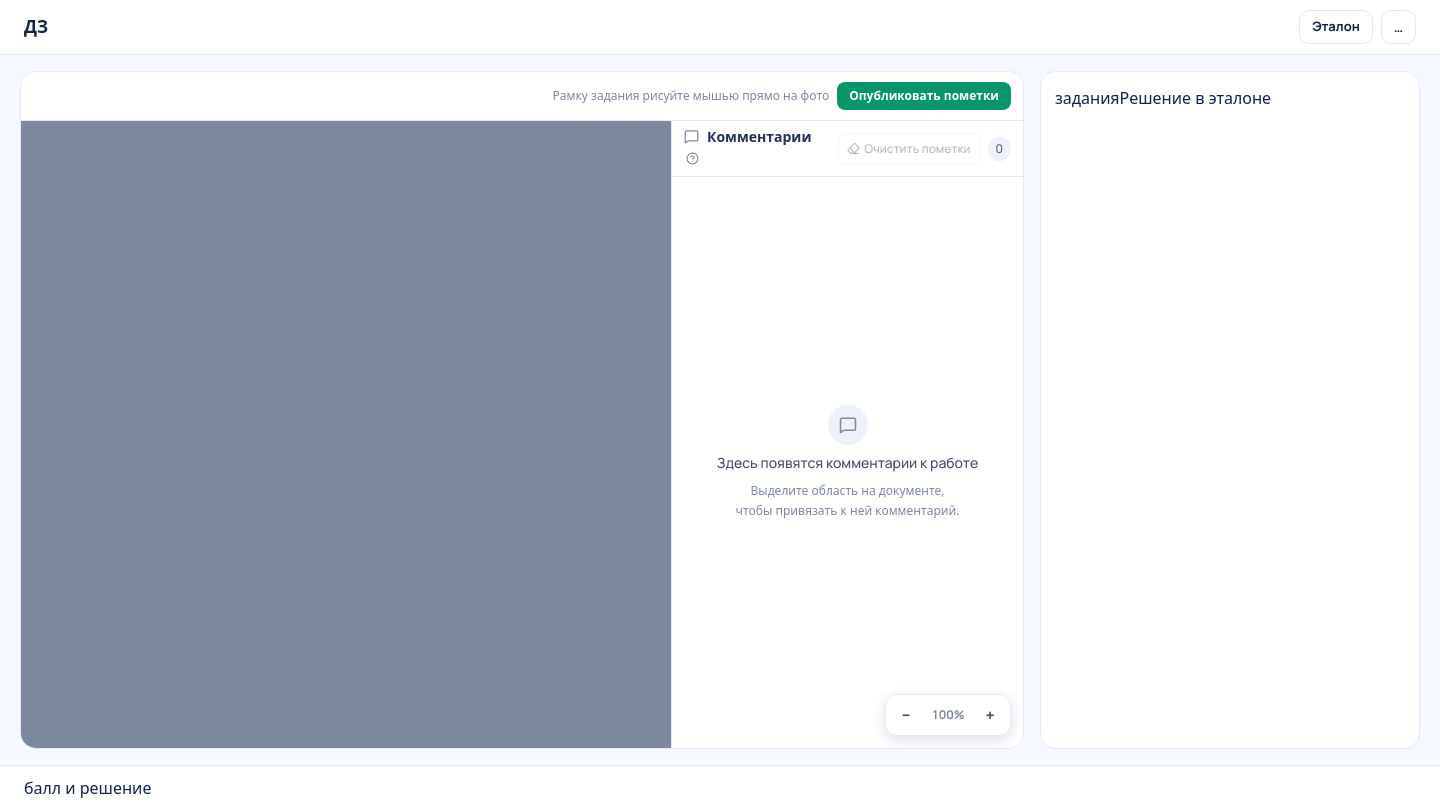
Test: §248. Эталон по запросу: панель поверх фото или блок снизу › мусор в хранилище читается как «сбоку»
Click the button with test id "attempt-reference-toggle" at coordinates (1336, 27), box [1299,10,1373,44]
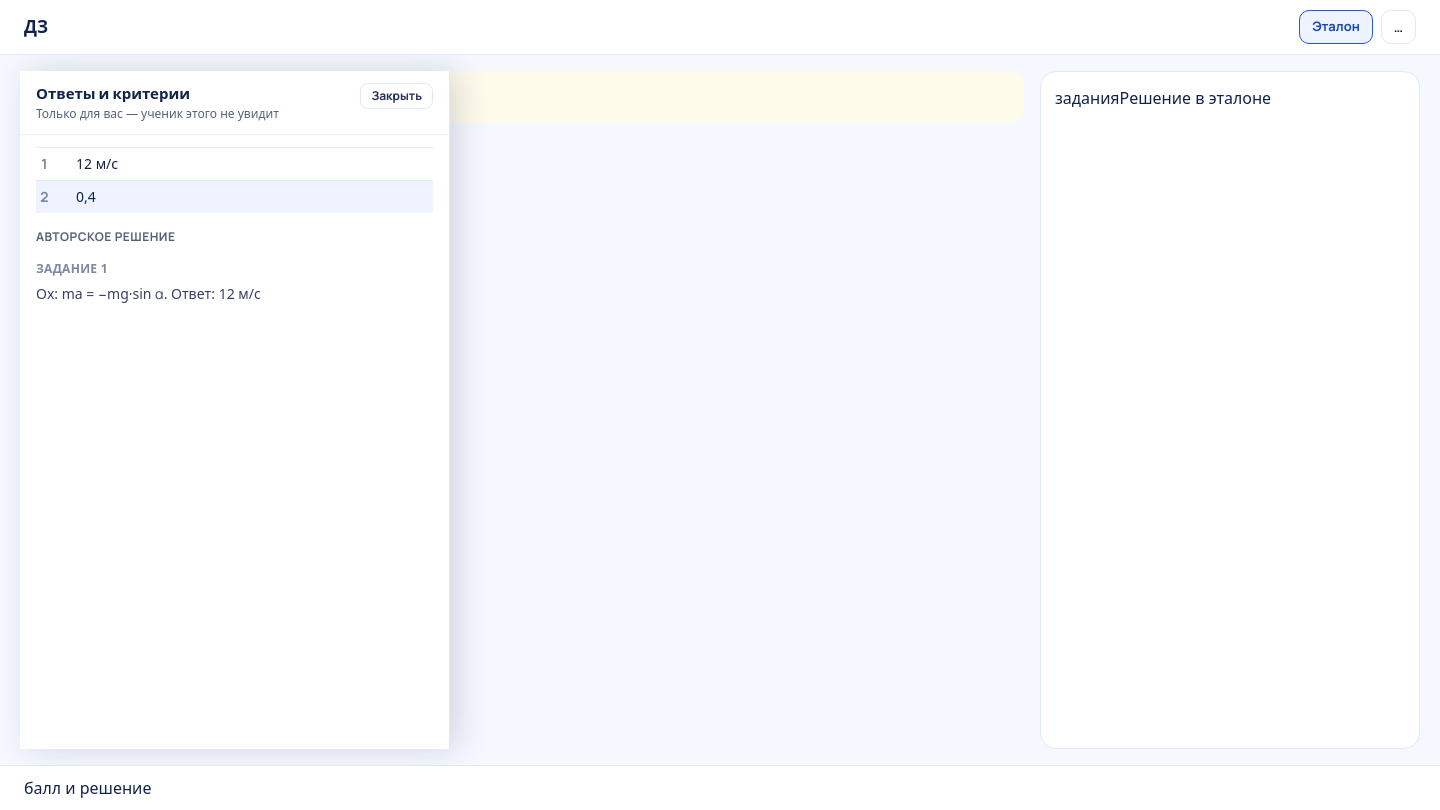
Now the element with test id "solution-reference-drawer" is shown, box [20,71,450,749]
